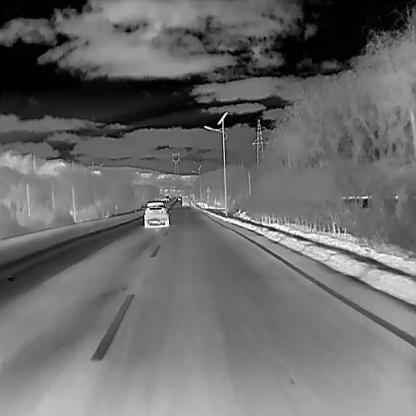car: (143, 199, 171, 229), (181, 194, 189, 208), (165, 194, 170, 202), (177, 195, 181, 201)
